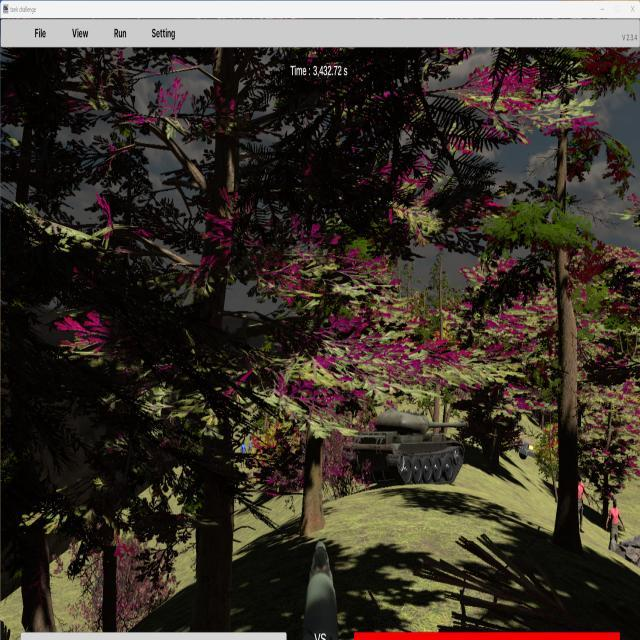Human: (606, 497, 625, 564), (573, 472, 592, 534)
Tank: (342, 408, 467, 487)
